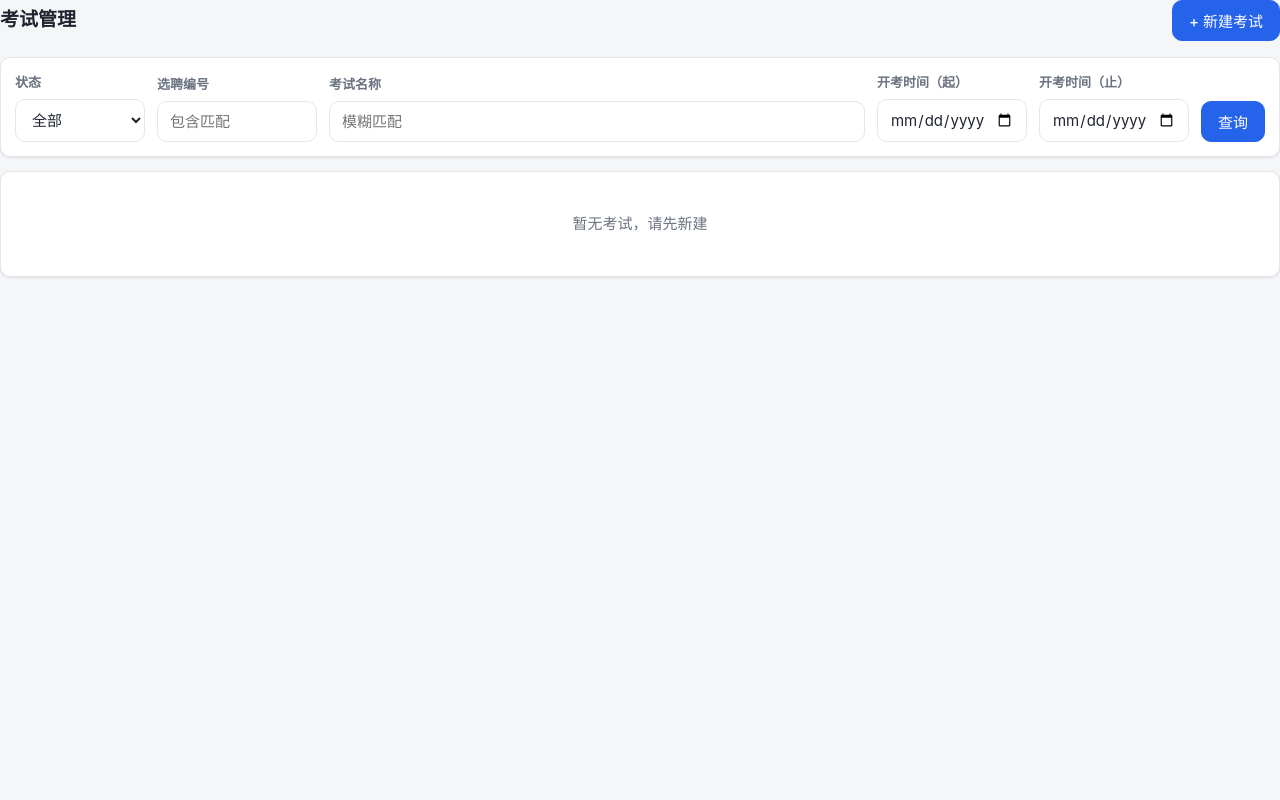
Test case: 组卷规则标签封闭选项（CH-005） › 抽题数在可用范围内时不提示超量
This screenshot has width=1280, height=800.
Click the button "+ 新建考试" at [1226, 20], box x1=1172 y1=0 x2=1279 y2=41
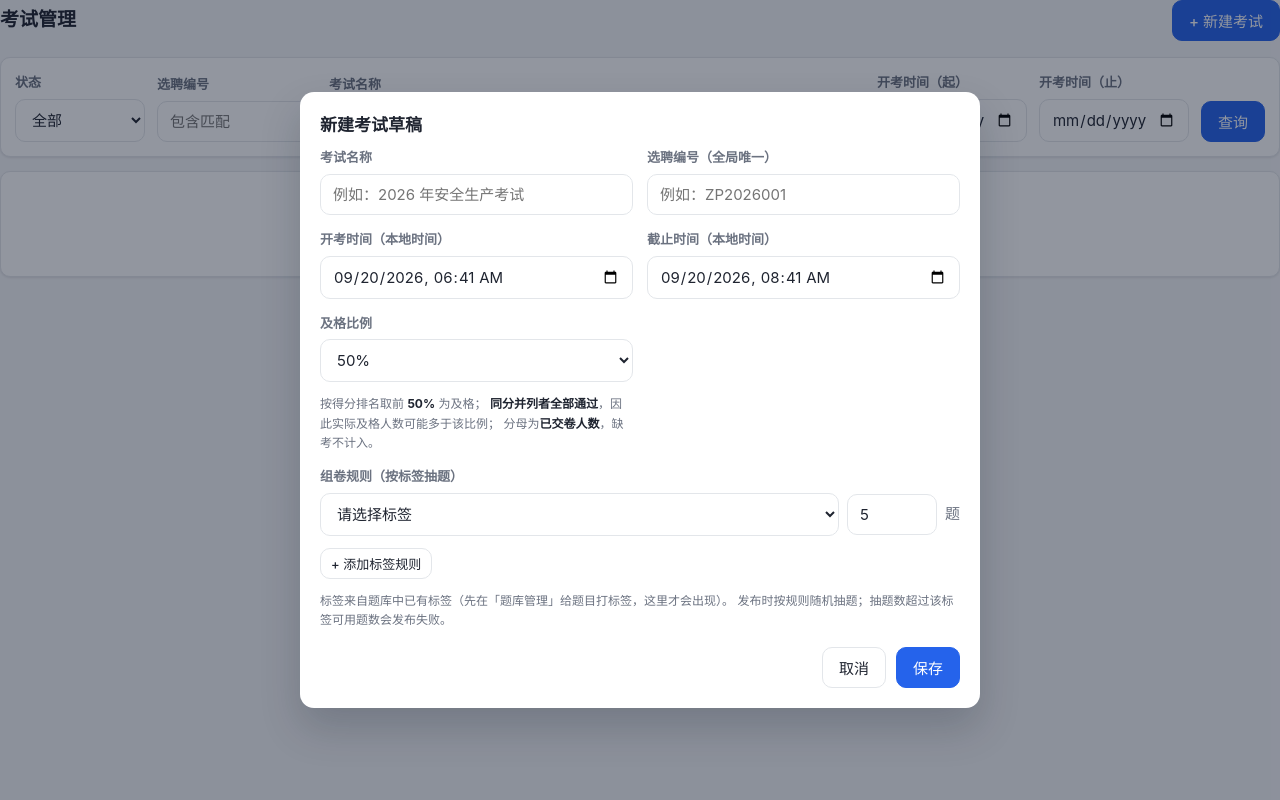
Select "安全生产（可用 3 题）" in the dropdown with class "rule-tag" at [580, 514], box x1=320 y1=493 x2=839 y2=536
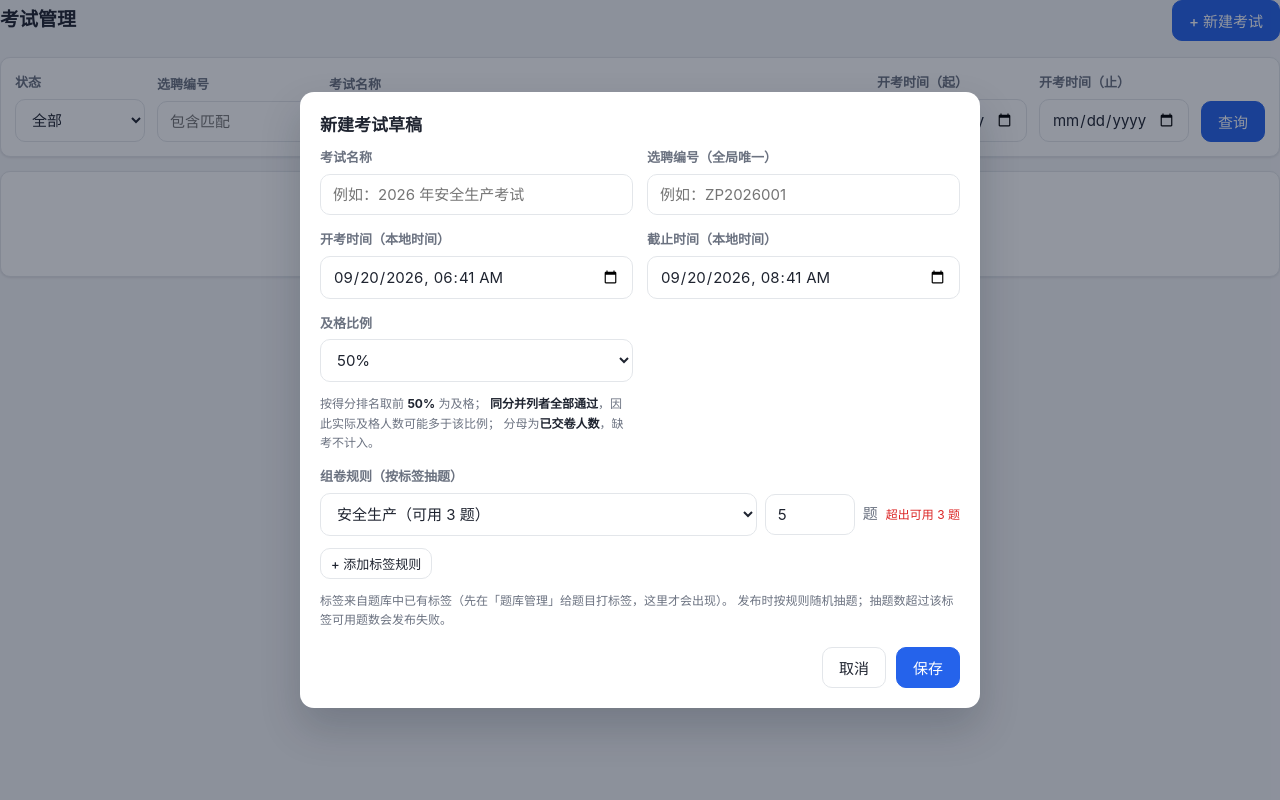
Replace the text in the number field with class "rule-count" with "2" at [810, 514], box x1=765 y1=494 x2=855 y2=535
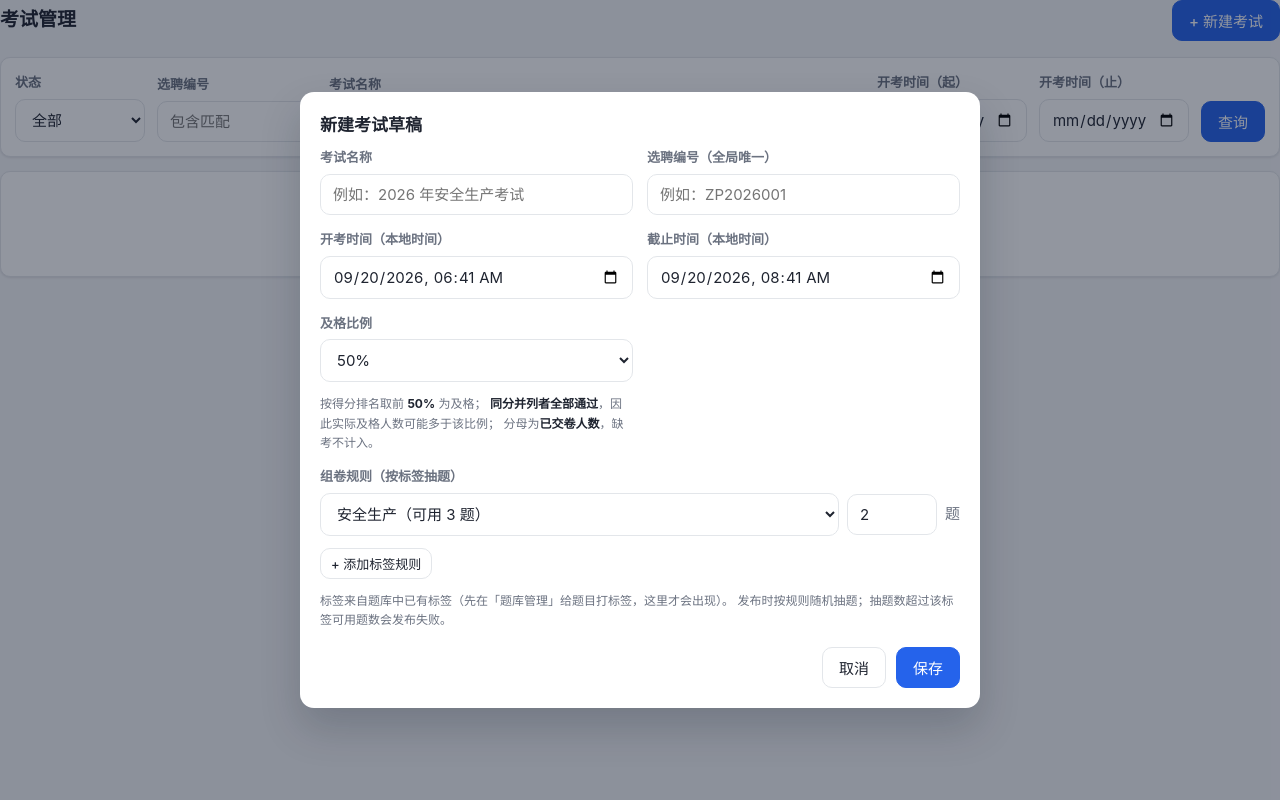
Expected: the text with class "modal" no longer shows "超出可用"
